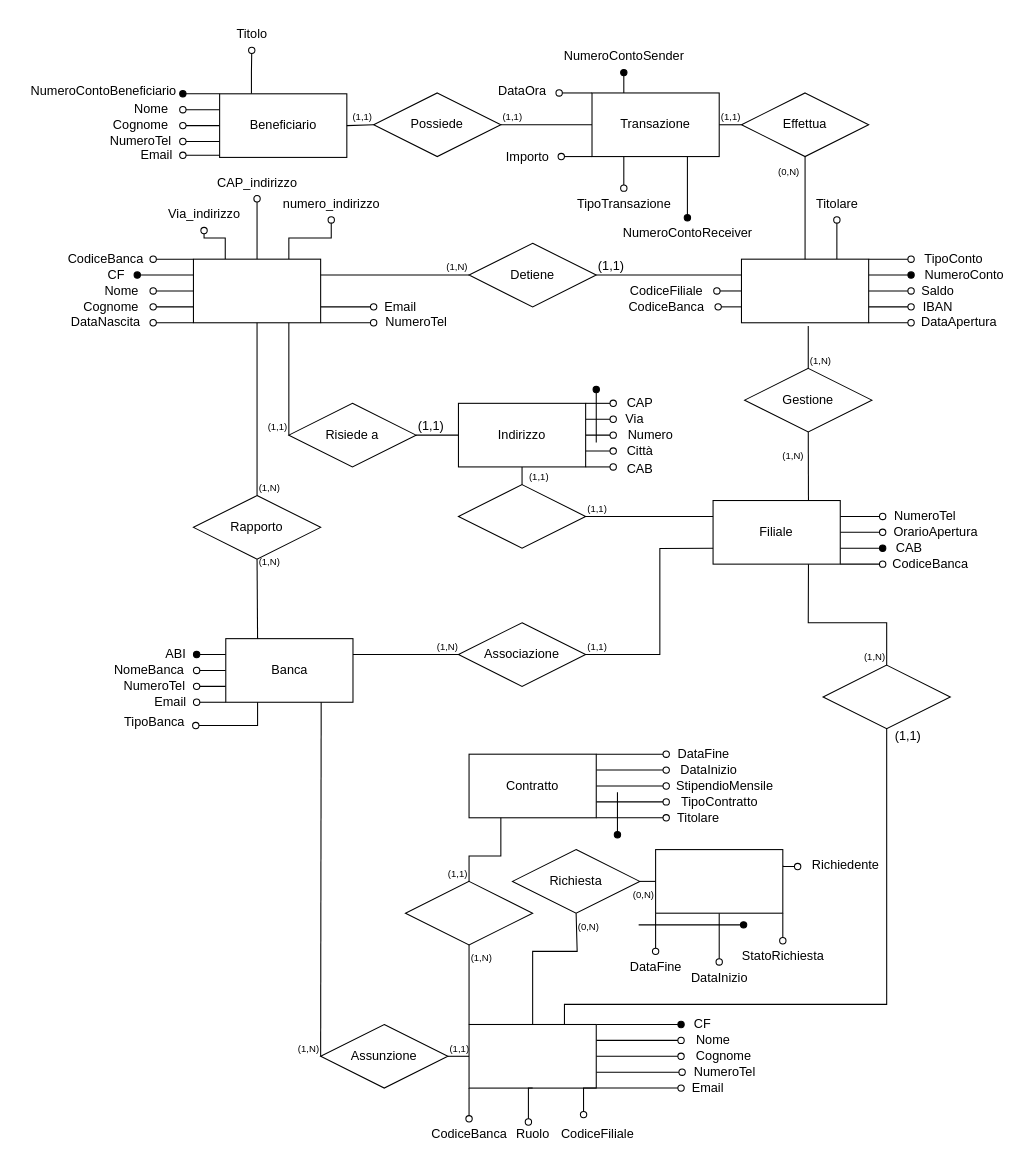
The diagram is 1035 pixels wide and 1168 high, and some of its shapes have lost their labels. Here are the shapes that lost their labels. From the top down, the centre of each, then its label:
[256,290]: Cliente
[804,290]: Conto
[521,516]: Con Sede a
[886,696]: Impiego
[719,881]: Ferie
[468,912]: Possesso
[532,1055]: Dipendente
